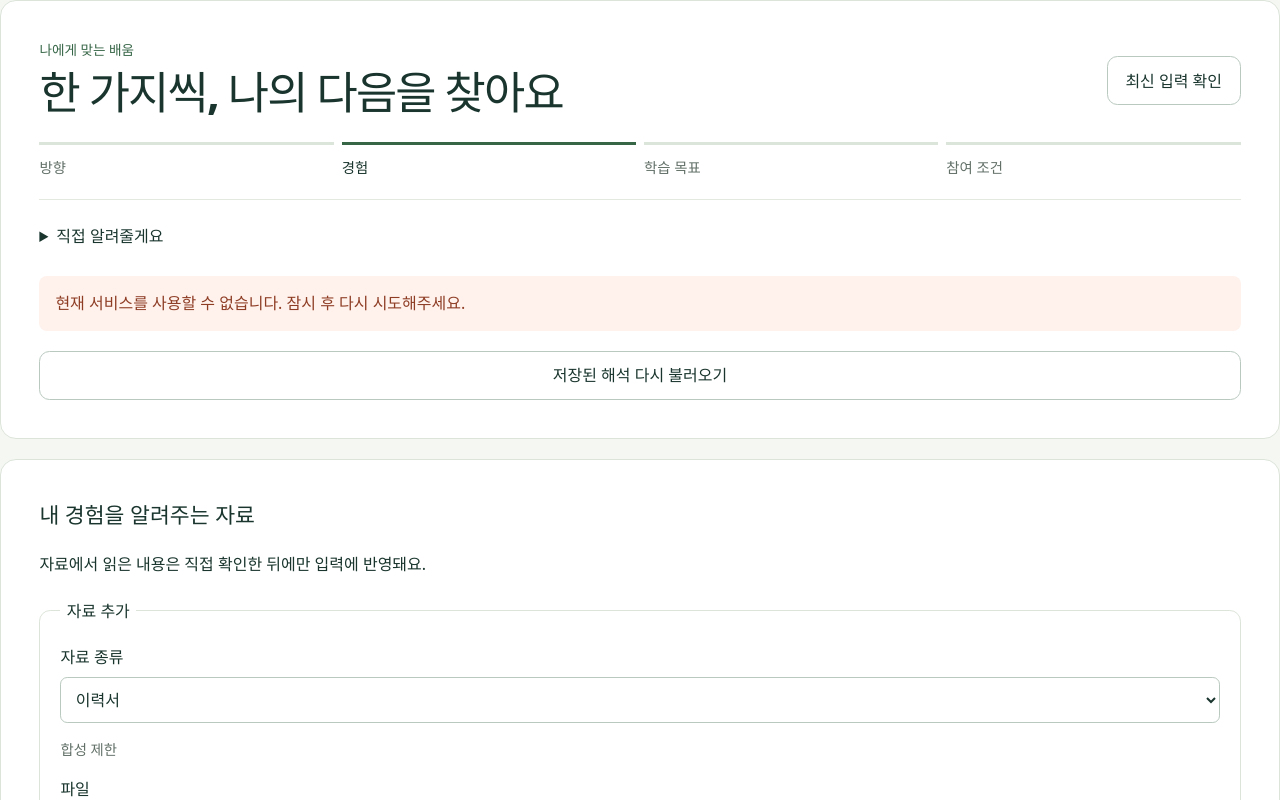
Test: 해석 제안 확인과 수락·거절 › 조회 실패 후 같은 ID의 GET만 다시 실행한다
Click the button "저장된 해석 다시 불러오기" at point(640, 375), box [39,351,1241,400]
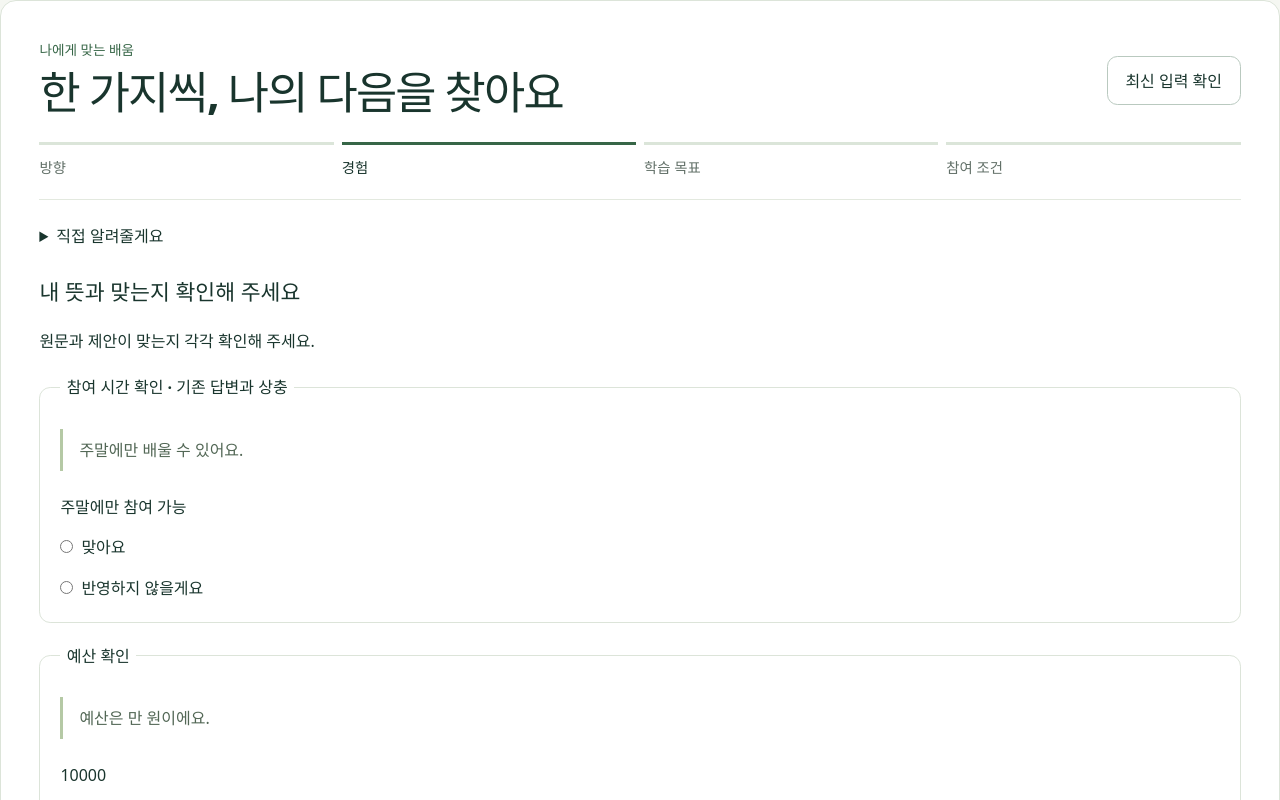
Check: the text "원문과 제안이 맞는지 각각 확인해 주세요." is shown, box [39,330,315,352]
Check: the message "현재 서비스를 사용할 수 없습니다. 잠시 후 다시 시도해주세요." is gone
